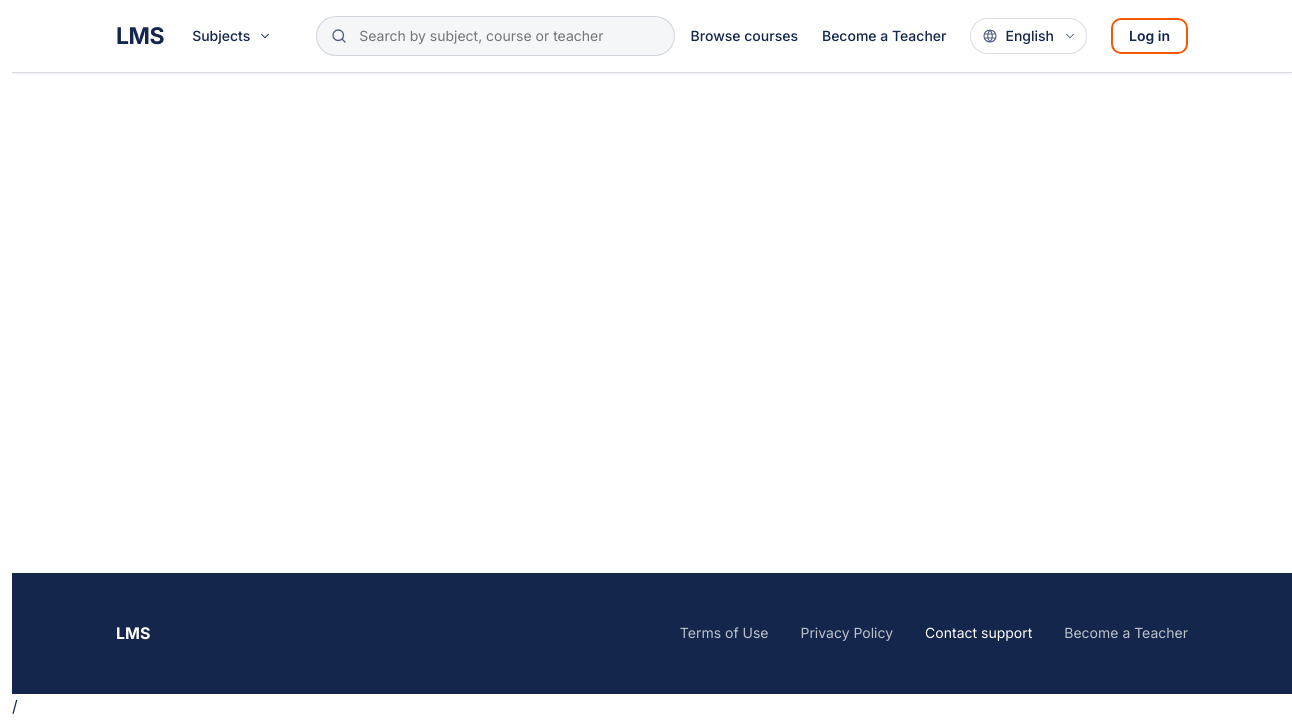
Test: public header: Subjects menu lists subjects with counts, filters as you type, and opens the catalogue for the pick
Click the button "Subjects": x=232, y=36 180,14 -> 284,58
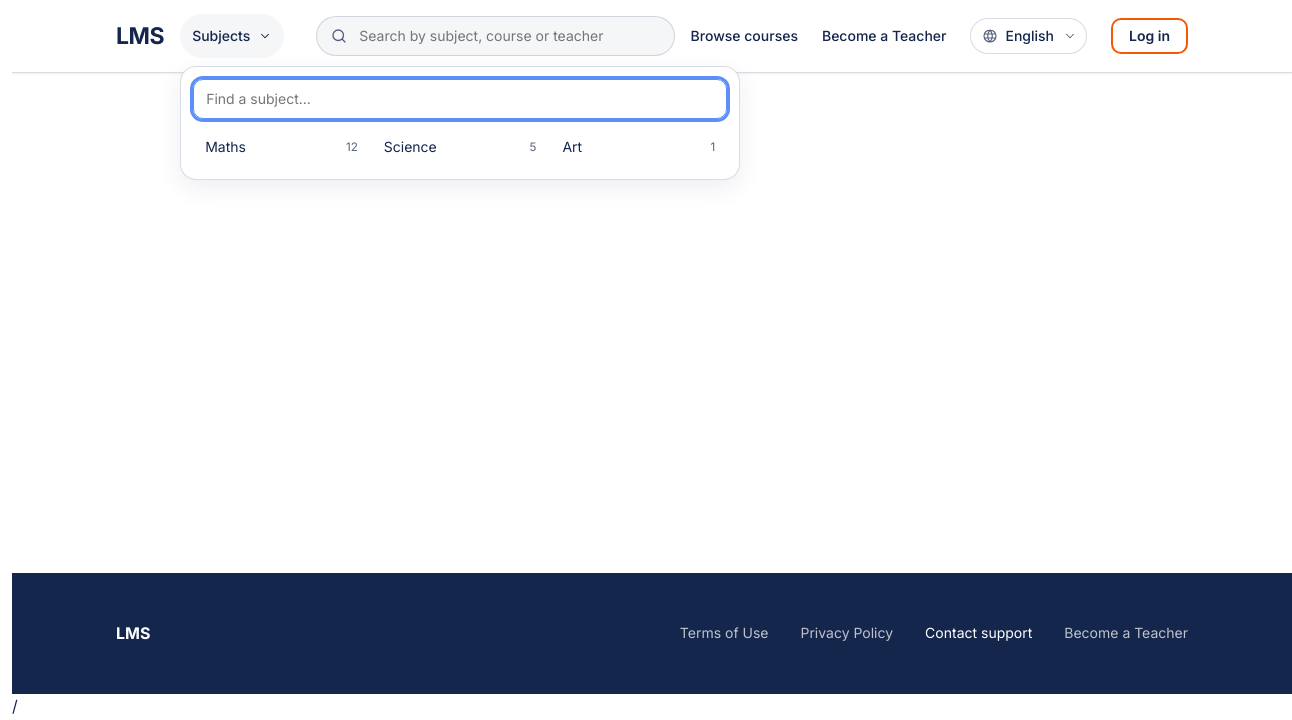
Expected: the button "Maths 12" is shown, 193,127 -> 370,167
In the search field with placeholder "Find a subject…": x=460, y=99 193,79 -> 727,119, type "sci"
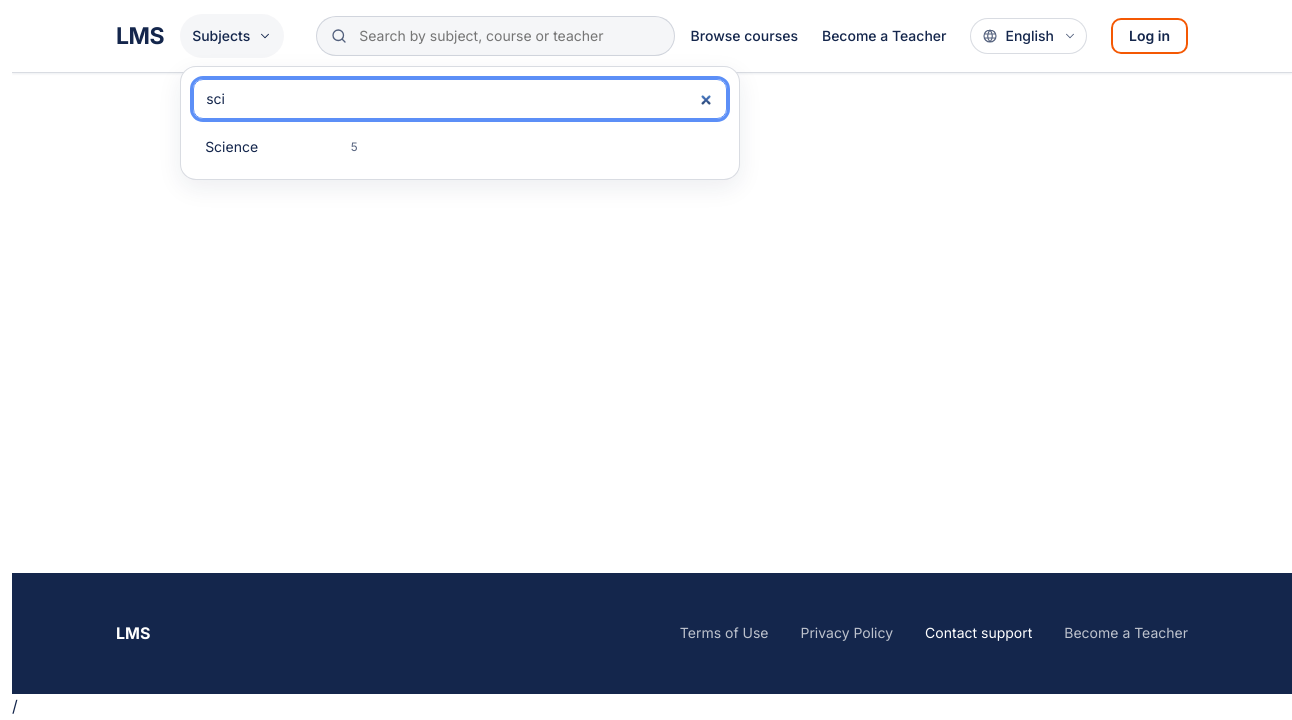
Expected: the button "Maths" is gone
Click the button "Science 5": x=281, y=147 193,127 -> 370,167
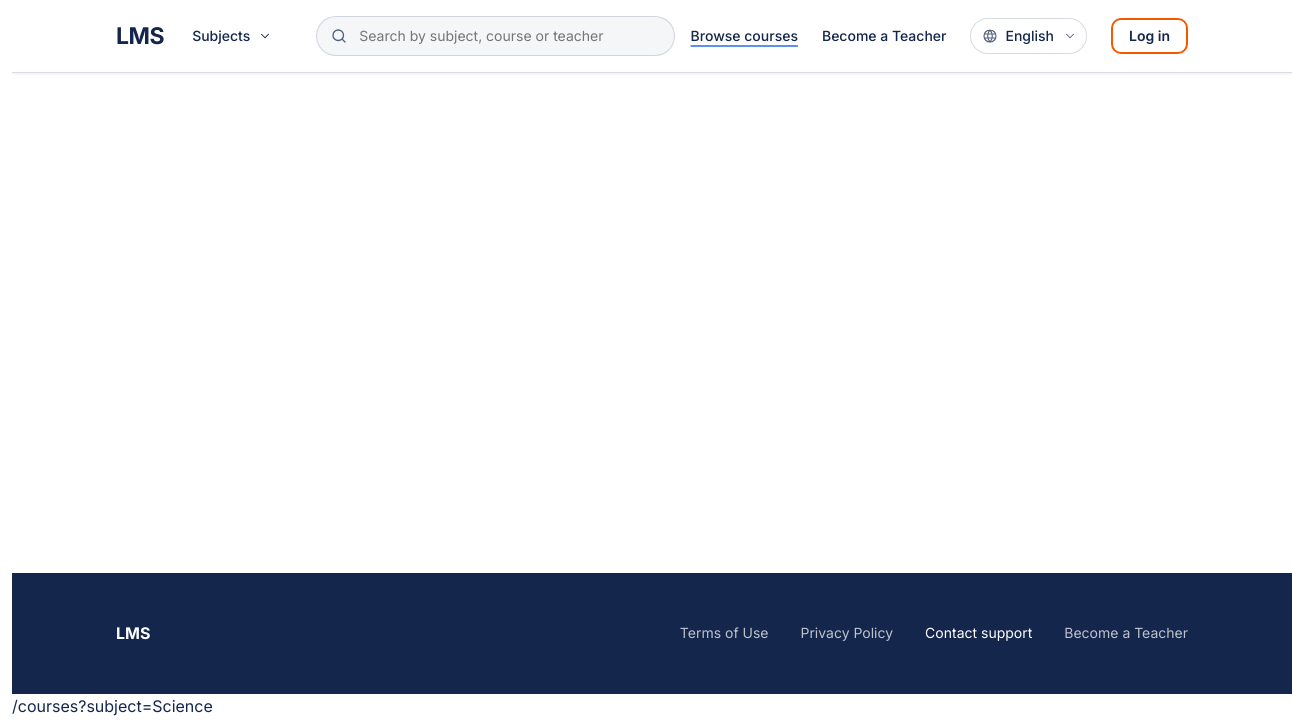
Expected: the text with test id "loc" reads "/courses?subject=Science", 12,696 -> 213,716
